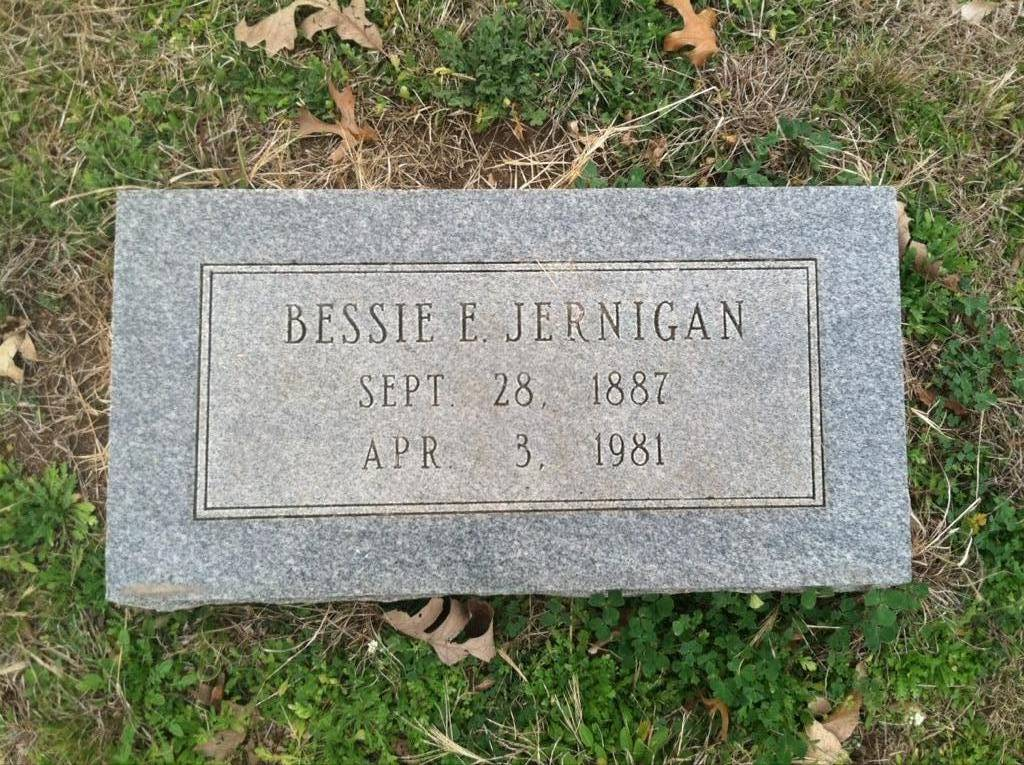flat: (106, 176, 911, 599)
